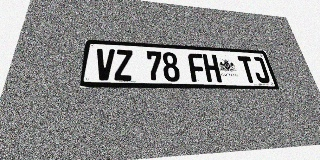7: (146, 51, 164, 81)
8: (162, 52, 180, 82)
F: (188, 53, 207, 82)
H: (202, 54, 222, 82)
J: (250, 57, 271, 83)
T: (237, 56, 258, 83)
V: (94, 48, 115, 80)
Z: (114, 49, 132, 81)
